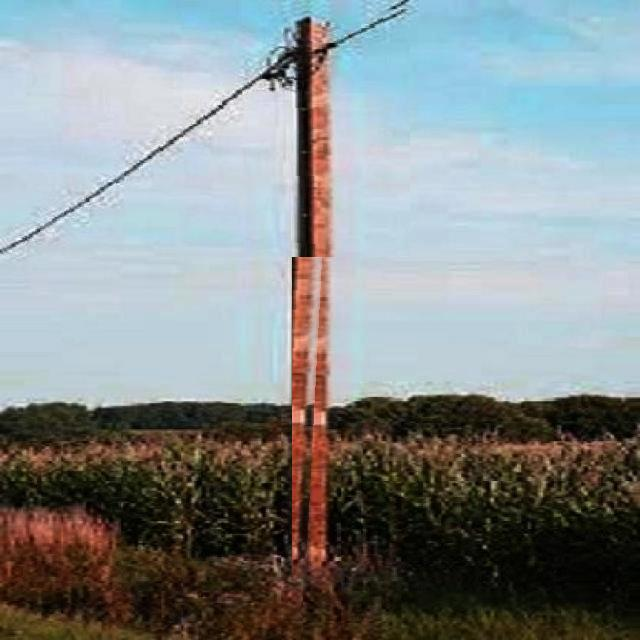pole: (292, 12, 335, 573)
wire: (3, 8, 410, 257)
